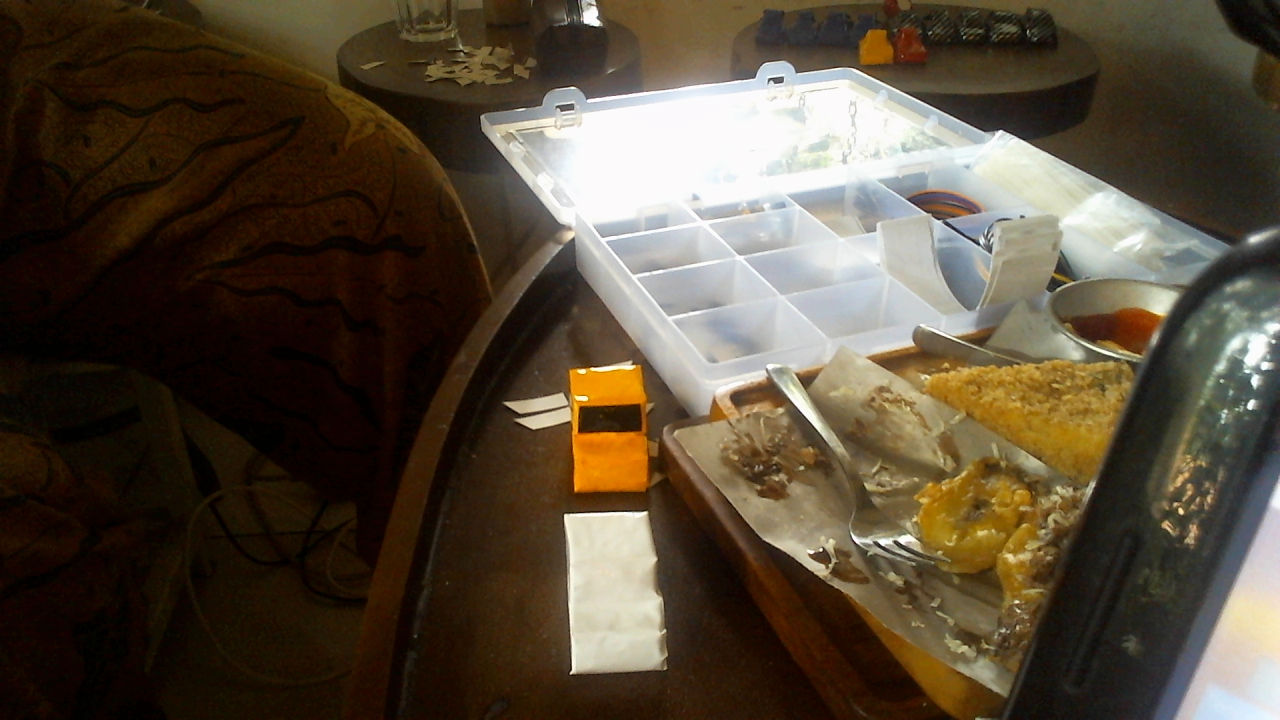Kijang Kapsul: (528, 344, 700, 527)
